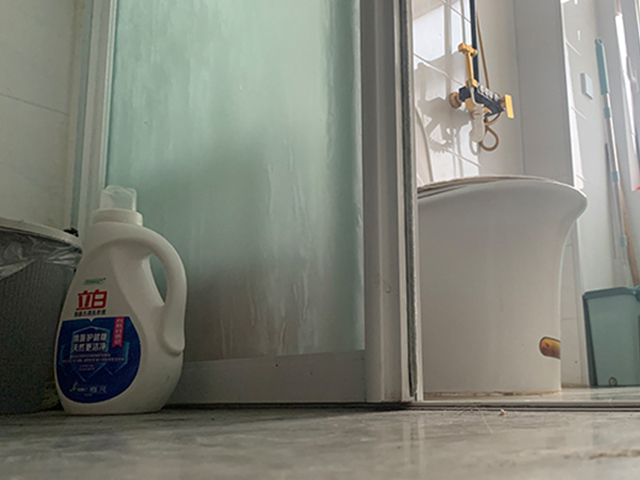closestool: (416, 107, 589, 398)
trashcan: (1, 217, 82, 416)
